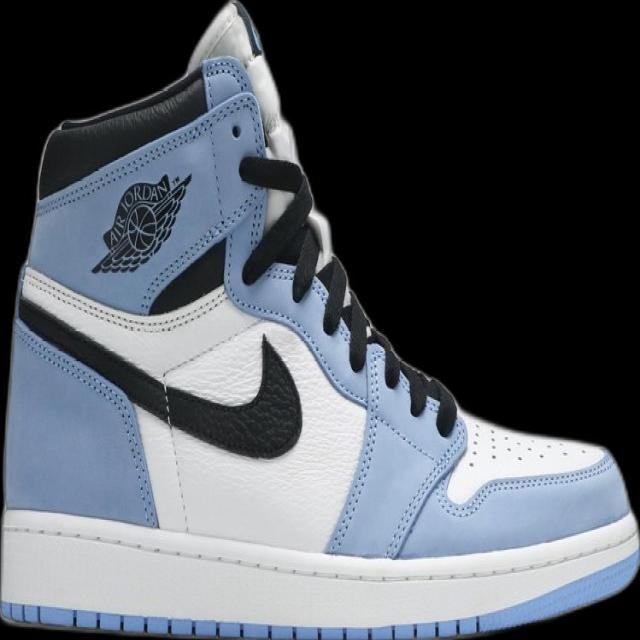J1_InsoleChar: (0, 0, 639, 639)
J1_ShoeLogo: (89, 170, 192, 274)
J1_StitchPattern: (236, 153, 460, 436), (0, 510, 638, 587), (13, 312, 304, 461), (324, 330, 463, 556), (13, 317, 160, 528), (236, 152, 376, 370), (35, 89, 263, 216), (303, 251, 459, 434), (1, 601, 483, 639), (163, 331, 304, 460), (439, 420, 616, 520), (19, 266, 229, 335), (325, 338, 384, 555), (381, 419, 468, 559), (466, 419, 597, 469)
